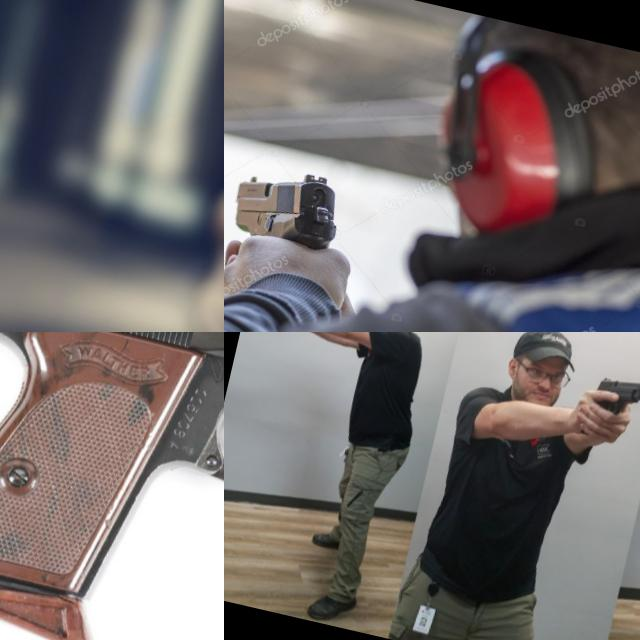handgun: (0, 332, 224, 640), (224, 154, 350, 274), (575, 365, 640, 449), (254, 332, 307, 343)
